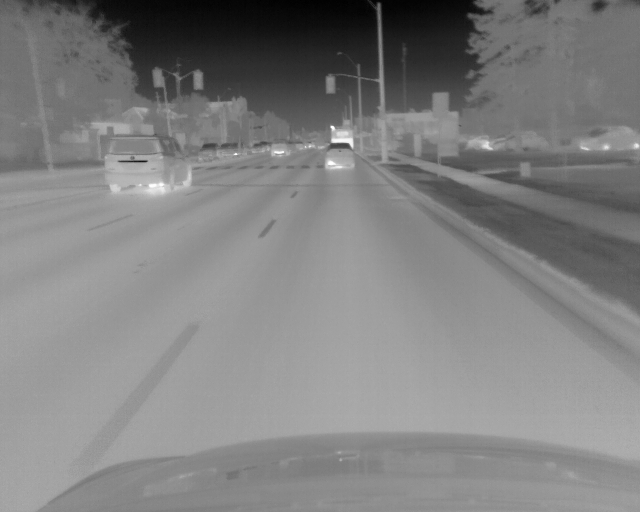car: (103, 135, 192, 194), (324, 143, 354, 168), (330, 125, 353, 147), (220, 142, 245, 160), (197, 143, 220, 160), (271, 138, 290, 156), (251, 143, 265, 153), (293, 141, 305, 150)
